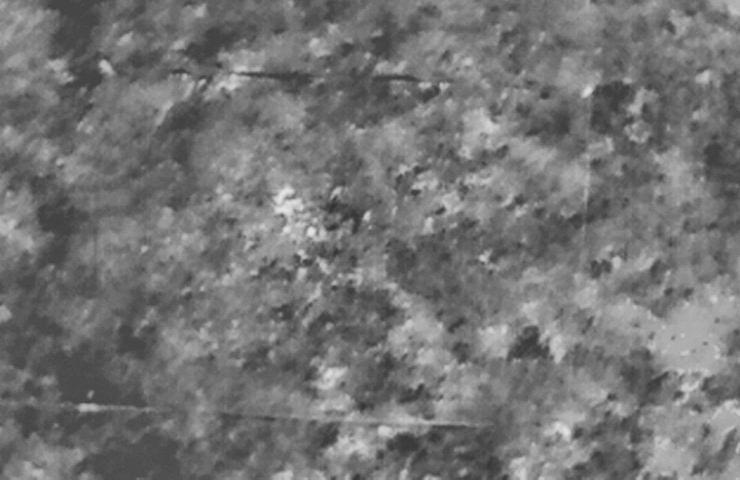landmines: (270, 181, 311, 223)
